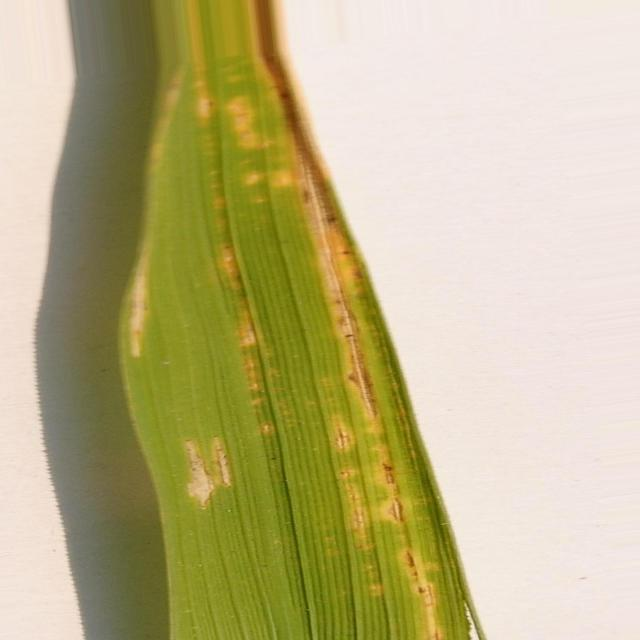Bacterial_Leaf_Blight: (255, 0, 390, 419), (400, 548, 441, 640), (229, 99, 275, 147), (375, 446, 402, 521), (185, 440, 214, 506), (214, 438, 232, 488), (240, 312, 258, 348), (335, 421, 351, 451), (197, 94, 213, 119), (271, 171, 294, 186), (353, 507, 364, 530), (244, 173, 259, 184), (340, 469, 355, 478)
